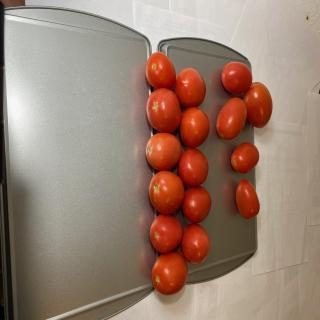Chilli: (145, 51, 211, 295)
Tomato: (152, 252, 188, 296), (146, 88, 181, 133), (148, 171, 184, 214), (146, 132, 182, 170), (243, 82, 272, 128), (216, 97, 247, 140), (181, 223, 211, 265), (150, 214, 182, 253), (175, 68, 206, 108), (180, 107, 210, 147), (145, 52, 176, 90), (178, 148, 209, 186), (182, 186, 211, 223), (221, 61, 252, 94), (235, 179, 260, 219), (231, 142, 259, 174)
